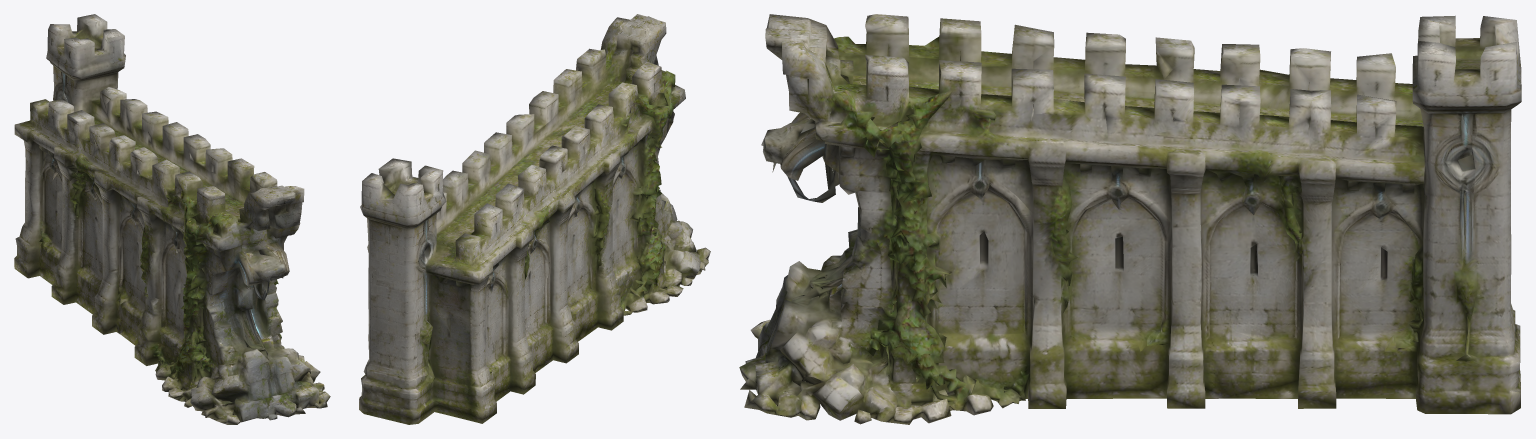
The model's file is env_wall.glb.
3 renders of one model, left to right at view 1: azimuth 30°, elevation 25°; view 2: azimuth 150°, elevation 25°; view 3: azimuth 270°, elevation 25°, orthographic. The views are drawn at different scales.
Visible parts, largest first — view 1: tripo_node_006afc1b-0e2b-43b0-a433-c2565cfcf473; view 2: tripo_node_006afc1b-0e2b-43b0-a433-c2565cfcf473; view 3: tripo_node_006afc1b-0e2b-43b0-a433-c2565cfcf473.
Boxes of the visible parts, left/top/right/bottom form: tripo_node_006afc1b-0e2b-43b0-a433-c2565cfcf473: left=14, top=14, right=330, bottom=424; tripo_node_006afc1b-0e2b-43b0-a433-c2565cfcf473: left=359, top=14, right=710, bottom=424; tripo_node_006afc1b-0e2b-43b0-a433-c2565cfcf473: left=739, top=14, right=1521, bottom=424.
Size of the model in its own units: 0.3165 by 0.5046 by 1.
Materials: 1 (1 with a texture image).
